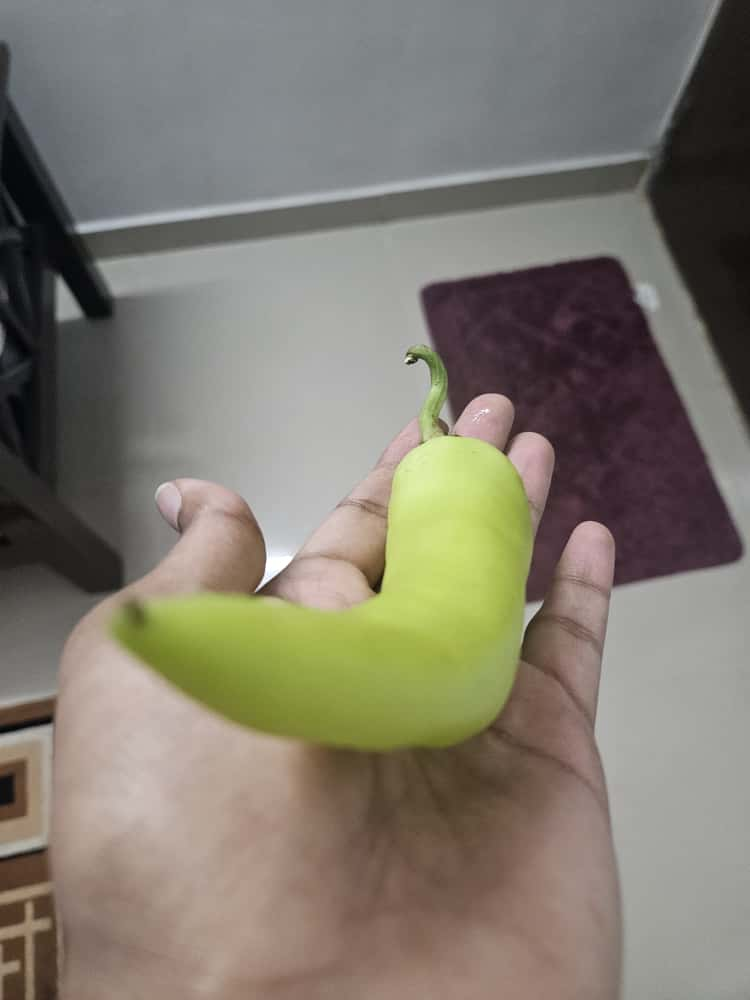wet: (89, 337, 618, 782)
